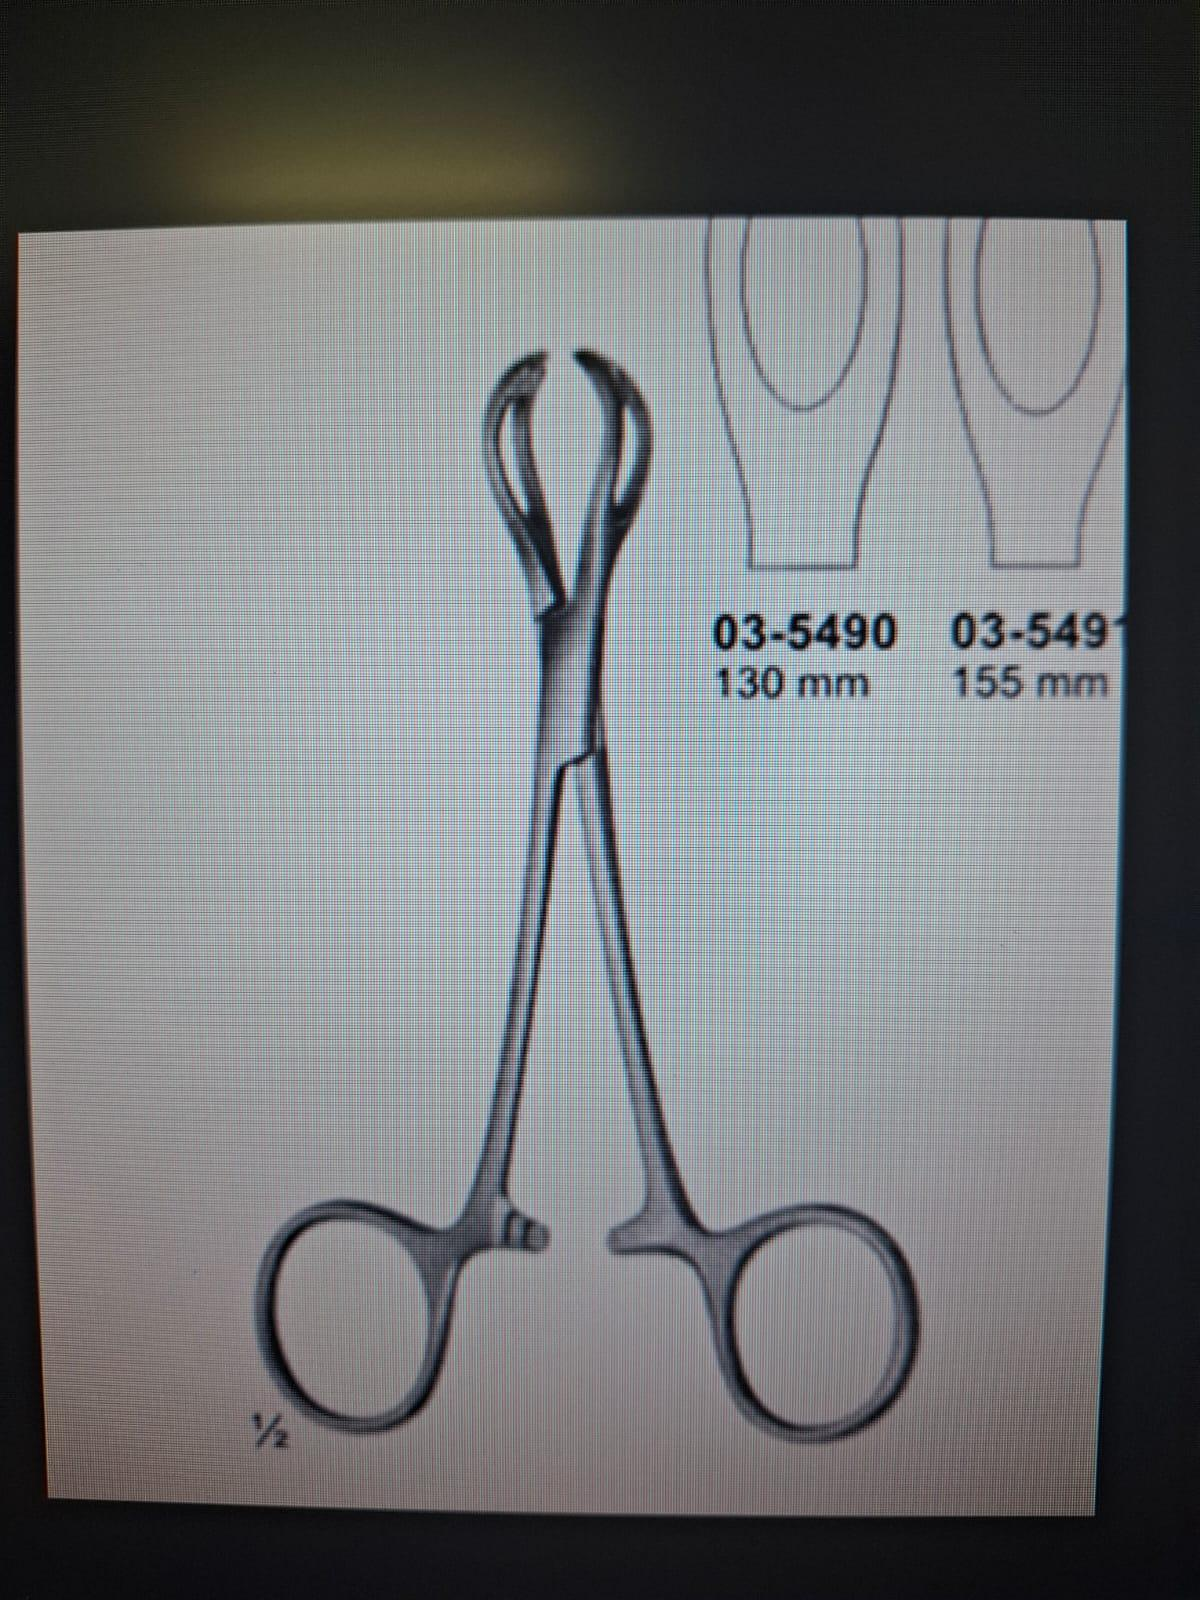Lane Tissue Forceps: (227, 340, 923, 1448)
